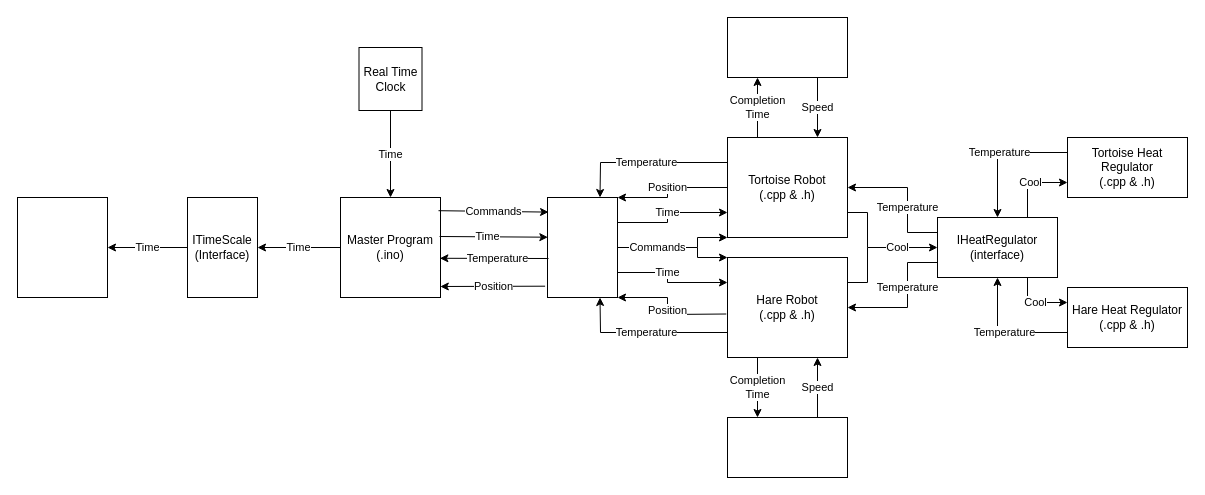
The diagram is 1205 pixels wide and 495 high, and some of its shapes have lost their labels. Each missing label, with the centre of its shape:
"Hare Speed Corrector (.cpp & .h)" goes at [787,447].
"IRobot (Interface)" goes at [582,247].
"TimeScale (.cpp & .h)" goes at [62,247].
"Tortoise Speed Corrector (.cpp & .h)" goes at [787,47].
